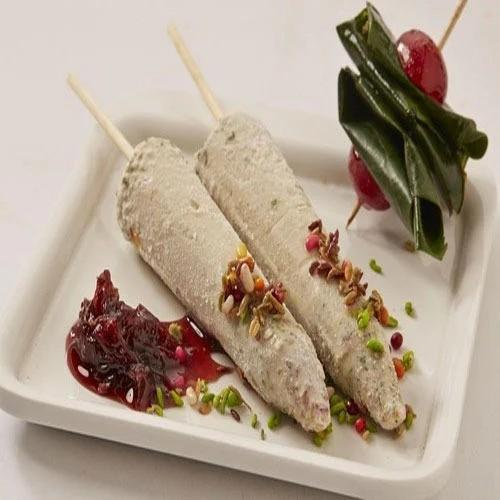Kulfi: (197, 114, 407, 428), (117, 136, 330, 431)
